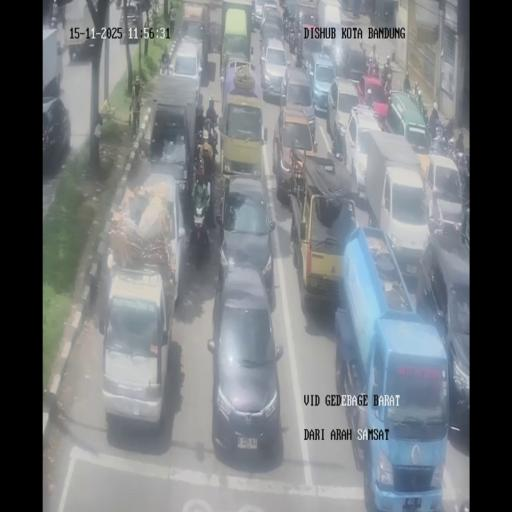3: (335, 231, 448, 507), (292, 152, 358, 316), (360, 130, 426, 257), (144, 78, 202, 200), (220, 0, 254, 79), (68, 4, 100, 63), (356, 73, 389, 119), (42, 29, 60, 98), (118, 0, 142, 40)
car: (208, 269, 284, 463), (100, 268, 174, 432), (216, 176, 276, 302), (133, 174, 187, 309), (327, 76, 363, 152), (41, 96, 71, 173), (279, 64, 315, 128), (168, 39, 203, 101), (258, 36, 289, 101), (339, 42, 370, 82), (299, 29, 325, 74), (259, 5, 284, 46), (321, 40, 342, 74), (298, 6, 317, 32), (208, 20, 221, 53), (252, 0, 264, 28)
truck: (188, 190, 211, 266), (454, 146, 468, 196), (204, 117, 218, 155), (430, 125, 448, 154), (381, 56, 393, 88), (160, 44, 171, 75), (282, 13, 292, 44), (420, 107, 431, 135), (443, 112, 454, 140), (195, 126, 205, 155), (49, 7, 60, 29), (368, 58, 380, 77), (448, 136, 456, 157), (115, 0, 122, 9)
